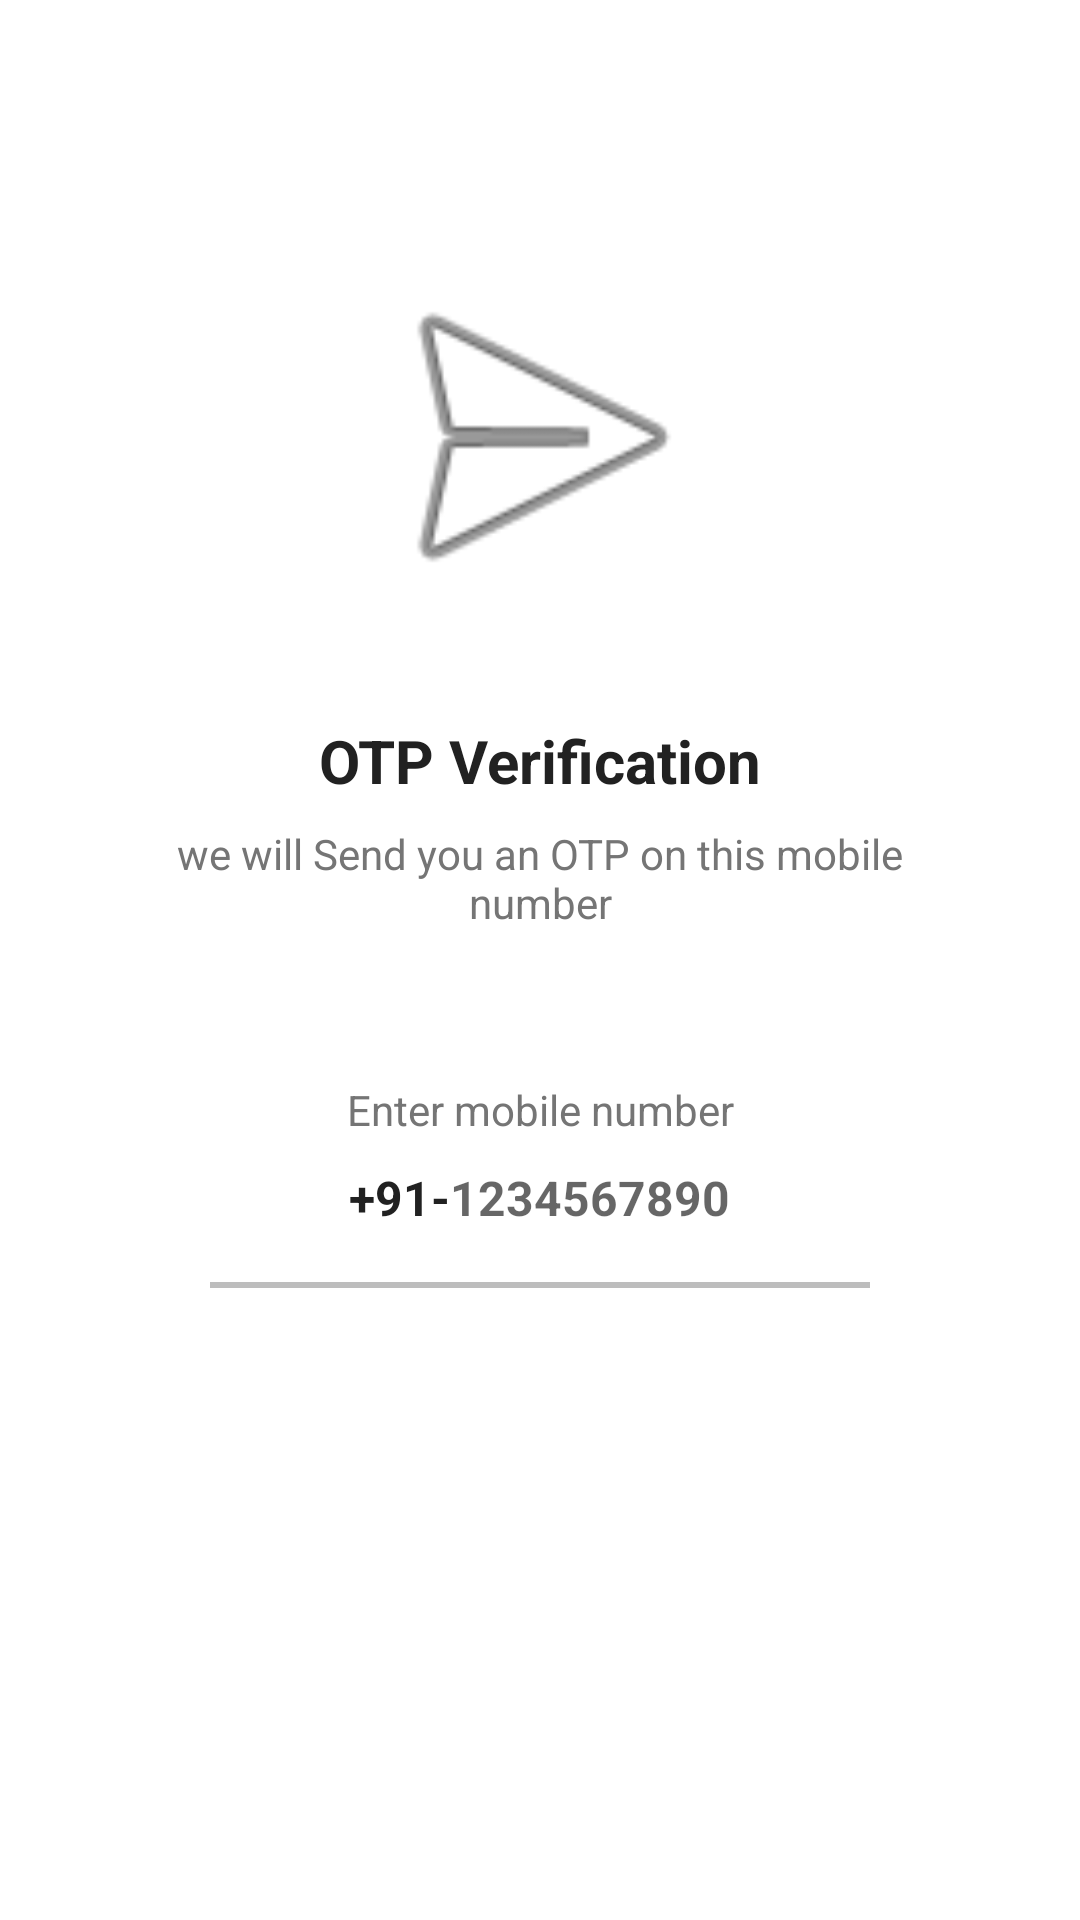

Icons on this 1080px×1920px Android screen, each with the point to tap as (x,y):
send: (543,437)
